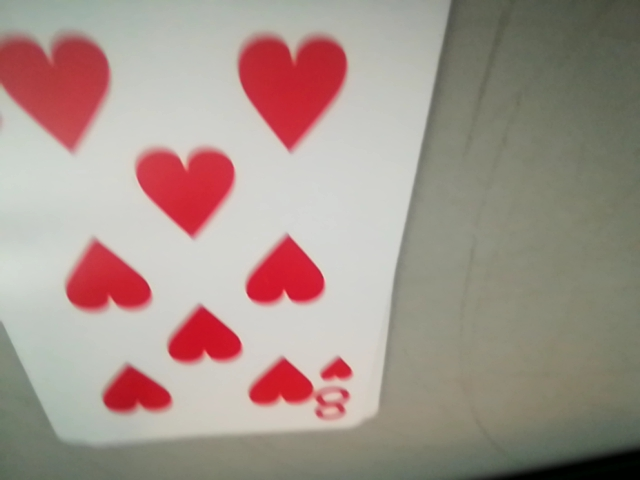hx 8: (313, 350, 358, 422)
